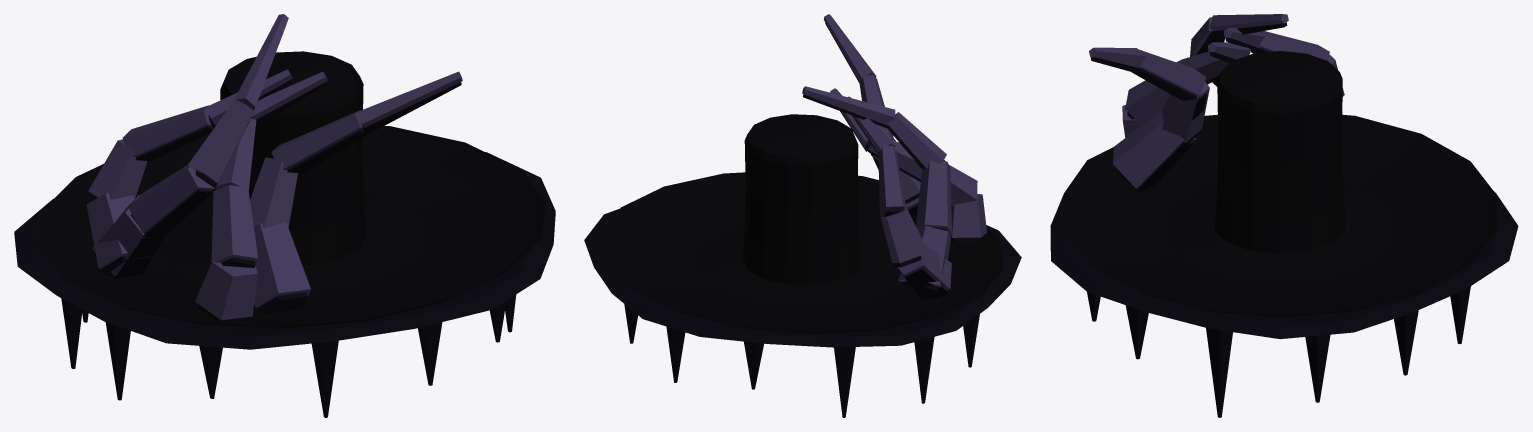
Rendered from hero_karma_head_60.glb.
3 renders of one model, left to right at view 1: azimuth 30°, elevation 25°; view 2: azimuth 150°, elevation 25°; view 3: azimuth 270°, elevation 25°, orthographic. The views are drawn at different scales.
Parts seen in each view (by area): view 1: hero_karma_head_60; view 2: hero_karma_head_60; view 3: hero_karma_head_60.
Part boxes in pixels (box(x1,y1,x2,y2)): hero_karma_head_60: box(14, 14, 555, 417); hero_karma_head_60: box(584, 14, 1021, 417); hero_karma_head_60: box(1050, 14, 1518, 417).
Size of the model in its own units: 1 by 0.6703 by 0.9.
